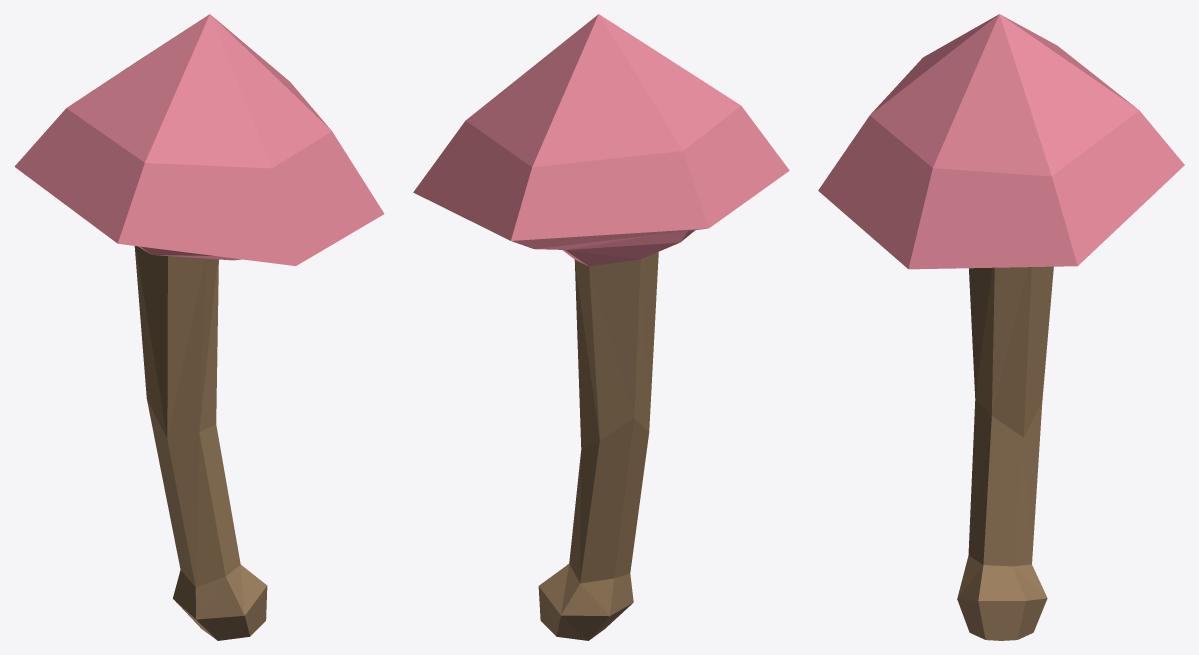
Rendered from TallMushroom.fbx.
3 renders of one model, left to right at view 1: azimuth 30°, elevation 25°; view 2: azimuth 150°, elevation 25°; view 3: azimuth 270°, elevation 25°, orthographic.
Parts seen in each view (by area): view 1: TallMushroom; view 2: TallMushroom; view 3: TallMushroom.
Boxes of the visible parts, x1,y1,x2,y2 form: TallMushroom: (14,14,384,640); TallMushroom: (413,14,789,640); TallMushroom: (818,14,1184,640).
Size of the model in its own units: 87.93 by 176 by 95.09.
